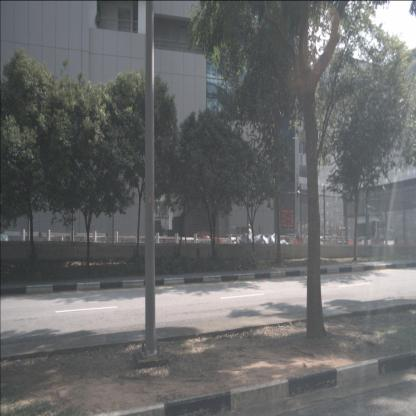barrier: (293, 237, 304, 249), (383, 240, 395, 249), (361, 240, 372, 249), (347, 239, 353, 247)
